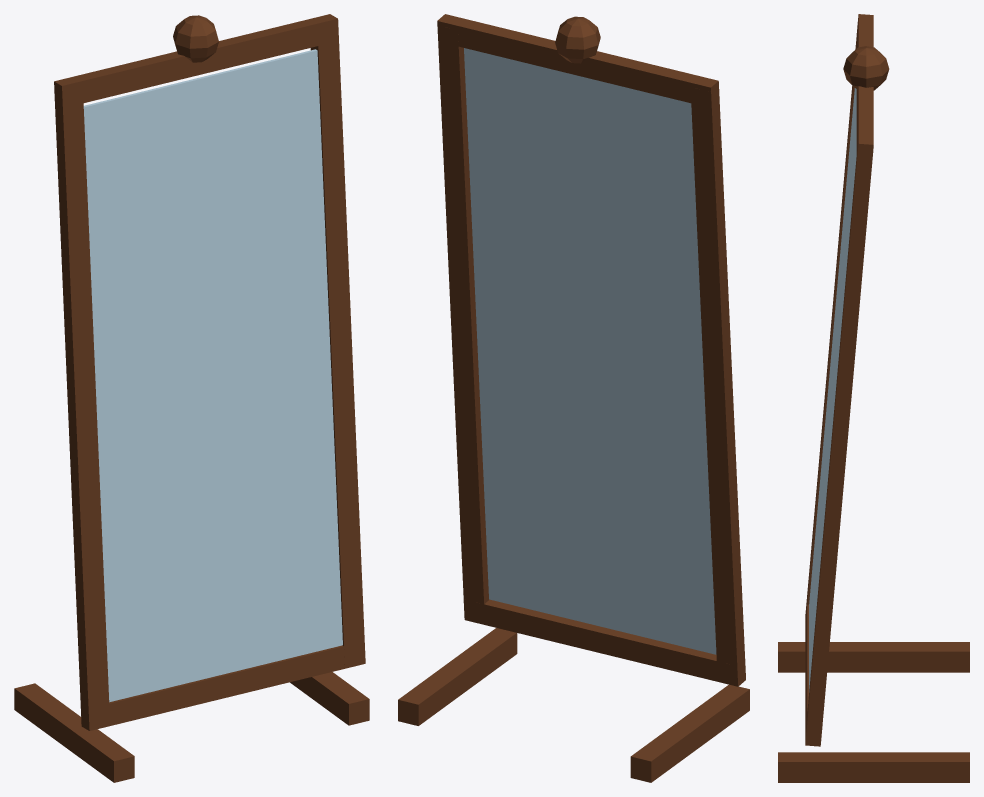
Rendered from standing_mirror.glb.
3 renders of one model, left to right at view 1: azimuth 30°, elevation 25°; view 2: azimuth 150°, elevation 25°; view 3: azimuth 270°, elevation 25°, orthographic. The views are drawn at different scales.
Visible parts, largest first — view 1: glass_mirror_glass, frame_mirror_wood, foot_mirror_wood, crest_mirror_wood; view 2: glass_mirror_glass, frame_mirror_wood, foot_mirror_wood, crest_mirror_wood; view 3: frame_mirror_wood, foot_mirror_wood, glass_mirror_glass, crest_mirror_wood.
Part boxes in pixels (left/top/right/bottom): glass_mirror_glass: left=83, top=49, right=342, bottom=702; frame_mirror_wood: left=54, top=14, right=365, bottom=730; foot_mirror_wood: left=14, top=672, right=369, bottom=782; crest_mirror_wood: left=173, top=15, right=218, bottom=62; glass_mirror_glass: left=464, top=48, right=716, bottom=654; frame_mirror_wood: left=437, top=14, right=745, bottom=686; foot_mirror_wood: left=398, top=628, right=749, bottom=782; crest_mirror_wood: left=555, top=16, right=600, bottom=63; frame_mirror_wood: left=805, top=14, right=873, bottom=746; foot_mirror_wood: left=778, top=642, right=969, bottom=782; glass_mirror_glass: left=809, top=88, right=856, bottom=692; crest_mirror_wood: left=843, top=46, right=889, bottom=90.
Size of the model in its own units: 0.8 by 1.94 by 0.5.
